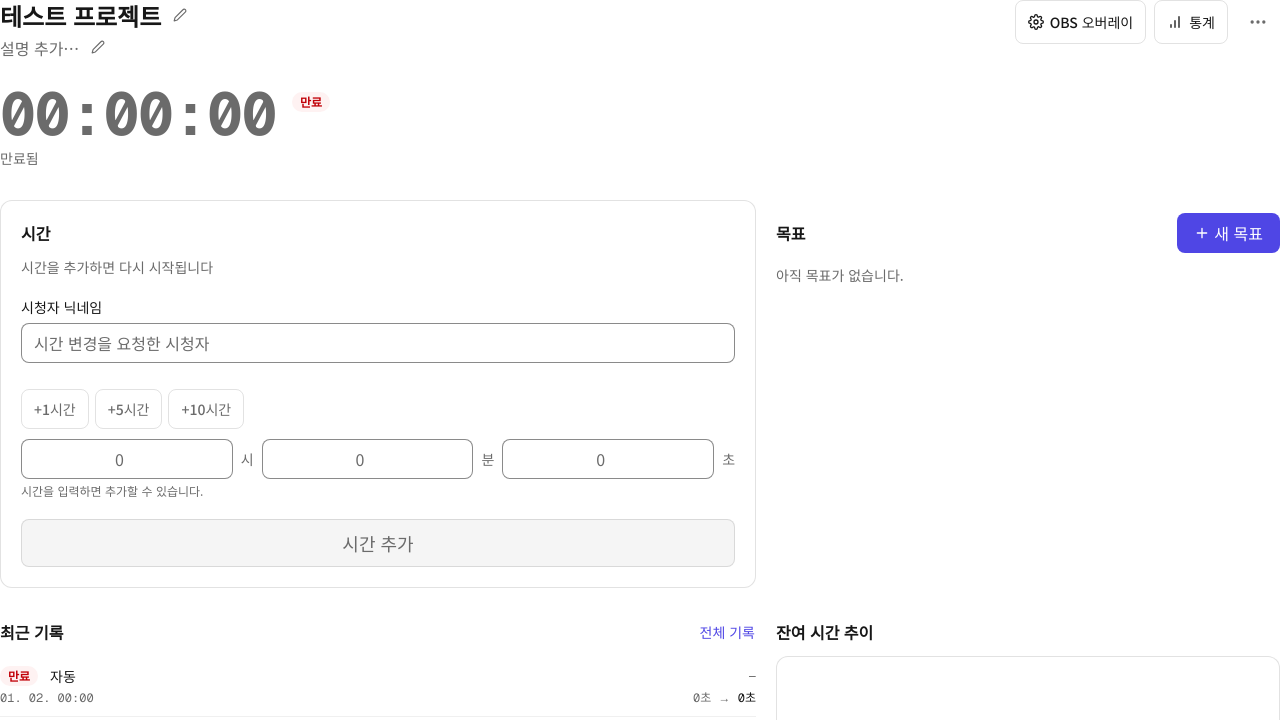
it: 프로젝트 콘솔 › 타이머 상세는 처음에 한 번만 불러온다
The width and height of the screenshot is (1280, 720).
Check: the element "시간" is shown, box [0,200,756,588]
Click the button "새 목표": (1229, 233) [1177,213,1279,253]
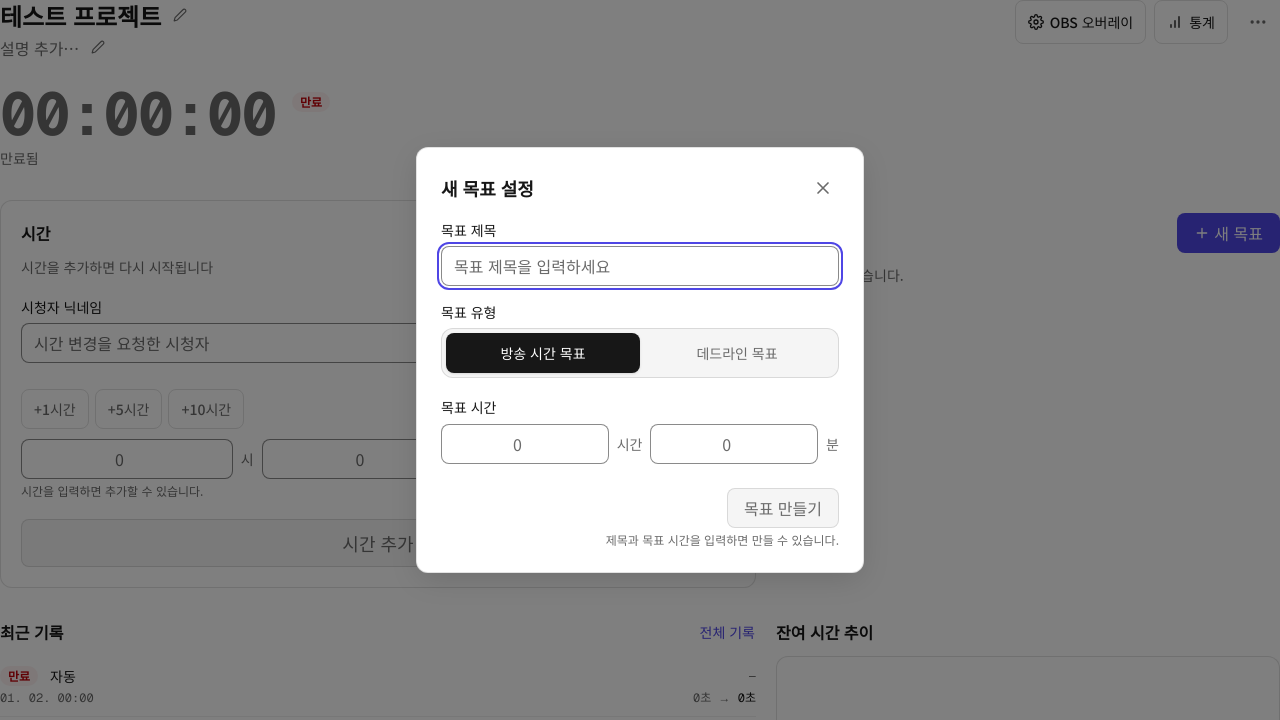
Check: the heading "새 목표 설정" is shown, box [441,174,534,202]
